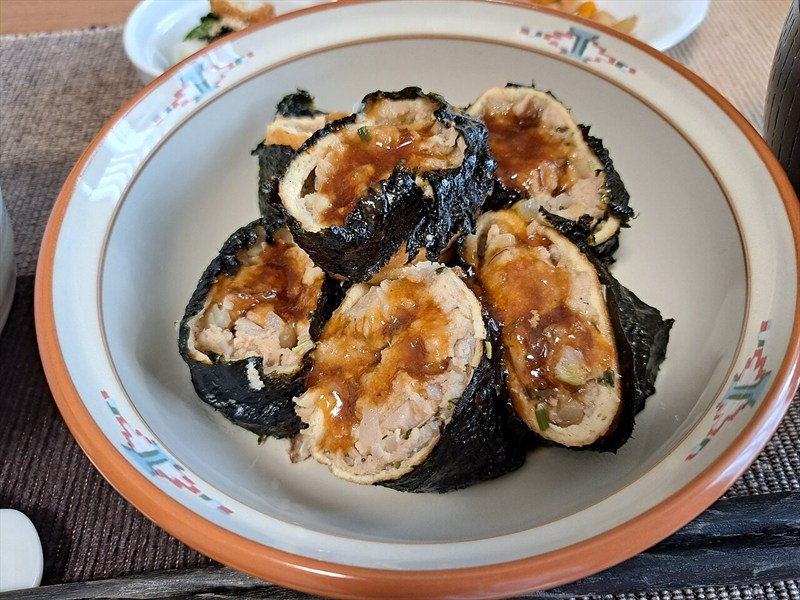Tahu Goreng: (107, 69, 653, 471)
